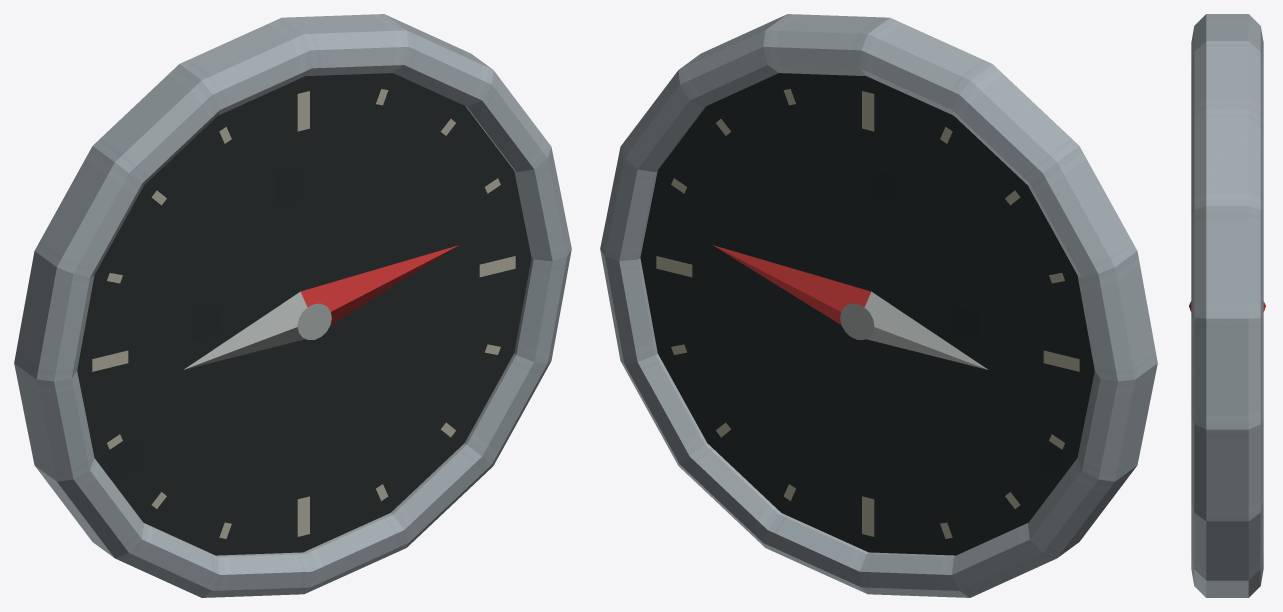
The model's file is compass_23.obj.
3 renders of one model, left to right at view 1: azimuth 30°, elevation 25°; view 2: azimuth 150°, elevation 25°; view 3: azimuth 270°, elevation 25°, orthographic. The views are drawn at different scales.
Size of the model in its own units: 0.6037 by 0.6037 by 0.085.
